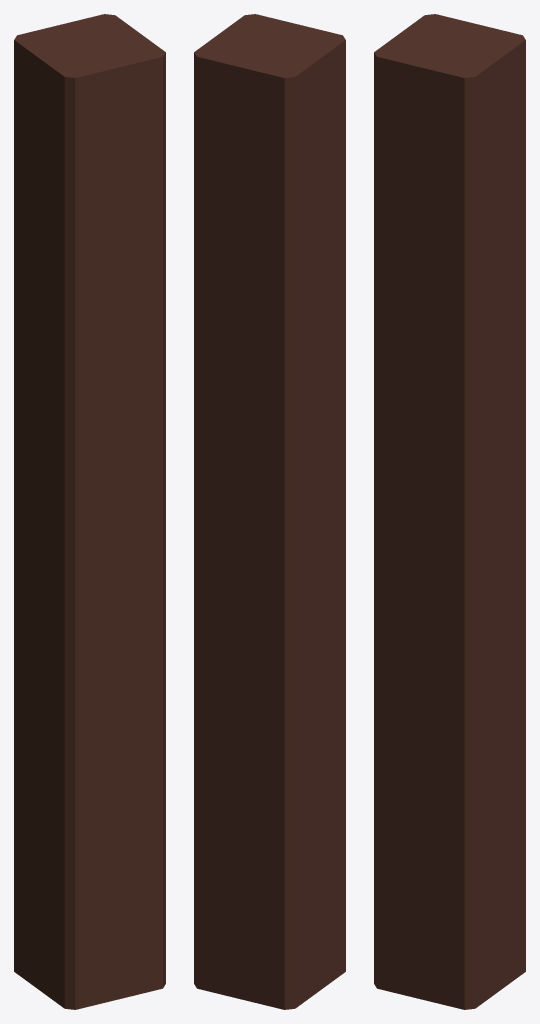
File: Corner Post B-col.glb
3 views of the same model, side by side, from view 1: azimuth 30°, elevation 25°; view 2: azimuth 150°, elevation 25°; view 3: azimuth 330°, elevation 25° (orthographic).
Visible parts, largest first — view 1: Corner Post B-col.001; view 2: Corner Post B-col.001; view 3: Corner Post B-col.001.
Part boxes in pixels (x1,y1,x2,y2): Corner Post B-col.001: (14, 14, 165, 1009); Corner Post B-col.001: (194, 14, 345, 1009); Corner Post B-col.001: (374, 14, 525, 1009).
Size of the model in its own units: 0.25 by 2.2 by 0.25.
